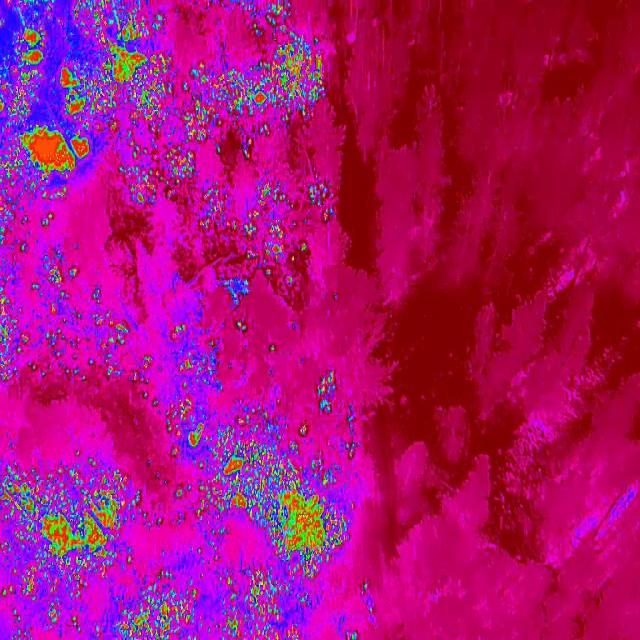fire: (188, 407, 356, 578), (0, 450, 136, 596), (178, 56, 332, 136), (208, 569, 317, 639), (0, 125, 96, 197), (96, 49, 178, 133), (117, 134, 205, 208), (244, 181, 303, 278), (116, 577, 200, 640), (67, 0, 162, 52), (32, 257, 80, 314), (0, 292, 28, 387), (93, 307, 127, 383), (0, 63, 39, 124), (56, 61, 94, 118), (201, 187, 244, 235), (168, 351, 194, 429), (8, 27, 52, 72), (304, 176, 339, 228), (244, 0, 296, 34), (274, 31, 320, 57), (312, 371, 338, 414), (44, 606, 82, 630), (130, 352, 154, 382), (166, 322, 188, 346), (0, 198, 15, 232), (238, 138, 254, 164), (38, 211, 58, 231), (233, 316, 251, 336), (264, 340, 283, 358), (341, 631, 358, 640)
